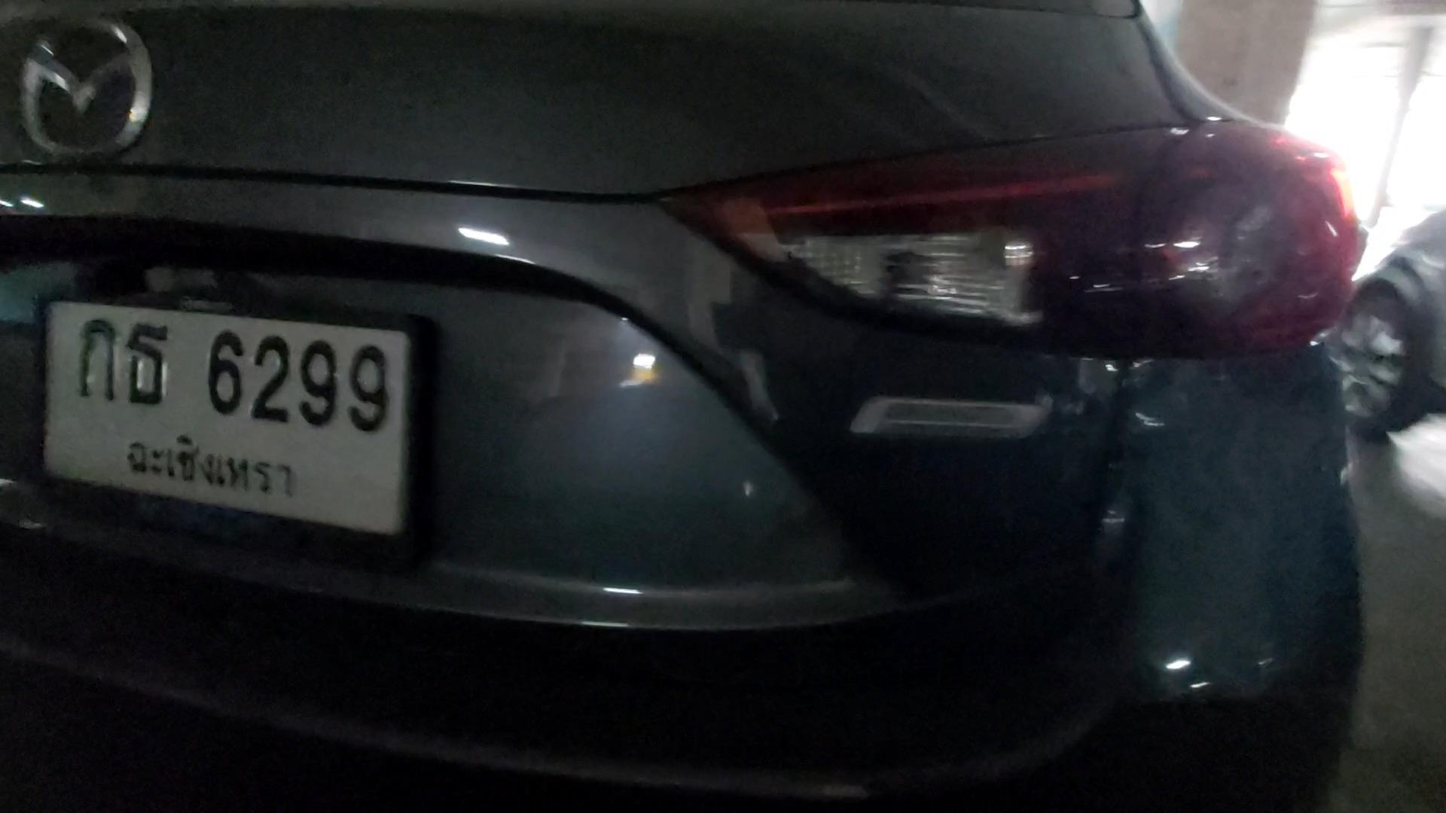license-plate: (45, 305, 406, 535)
